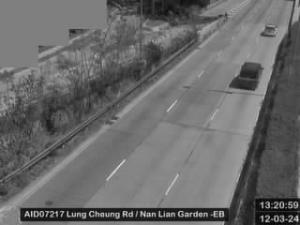vehicle: (238, 60, 264, 90), (262, 24, 278, 36)
